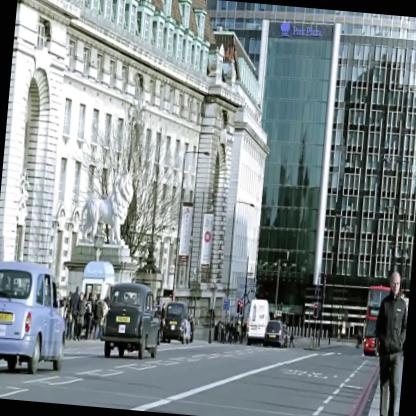bus: (362, 287, 394, 359)
car: (0, 260, 72, 377), (100, 282, 164, 361), (163, 302, 193, 344), (264, 320, 286, 348)
truck: (246, 298, 270, 348)
